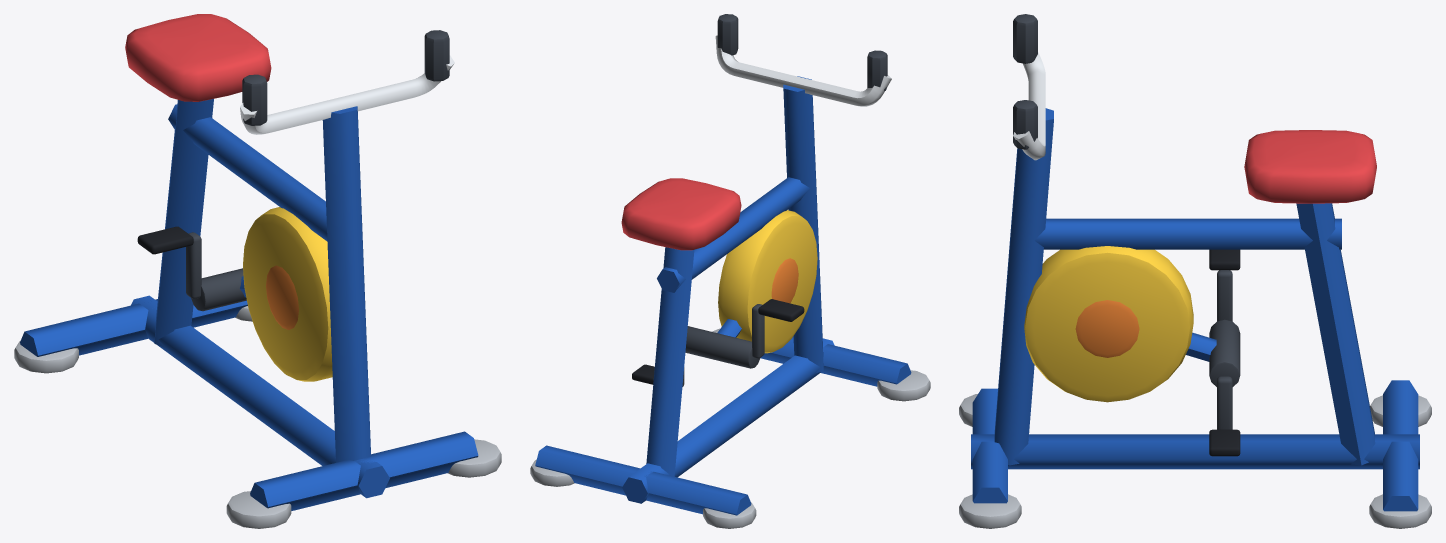
The model's file is academia_bicicleta.glb.
3 views of the same model, side by side, from view 1: azimuth 30°, elevation 25°; view 2: azimuth 150°, elevation 25°; view 3: azimuth 270°, elevation 25° (orthographic). The views are drawn at different scales.
Parts seen in each view (by area): view 1: academia_bicicleta, pedivela; view 2: academia_bicicleta, pedivela; view 3: academia_bicicleta, pedivela.
Boxes of the visible parts, <box> form: academia_bicicleta: <box>14,14,501,528</box>; pedivela: <box>137,226,246,311</box>; academia_bicicleta: <box>530,14,930,528</box>; pedivela: <box>632,299,804,386</box>; academia_bicicleta: <box>959,14,1431,528</box>; pedivela: <box>1209,249,1240,456</box>.
Bounding box in the file's own units: 0.76 × 1.15 × 1.21.
1 material, 1 textured.
